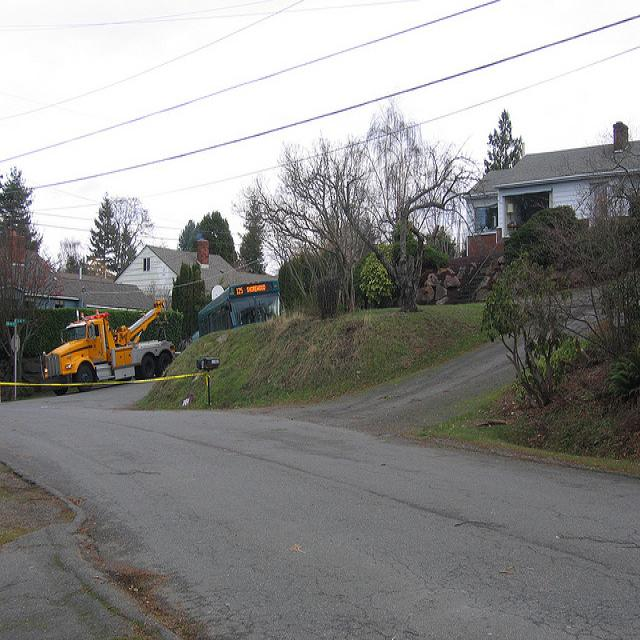Vehicle: (48, 299, 173, 393), (195, 281, 277, 338)
